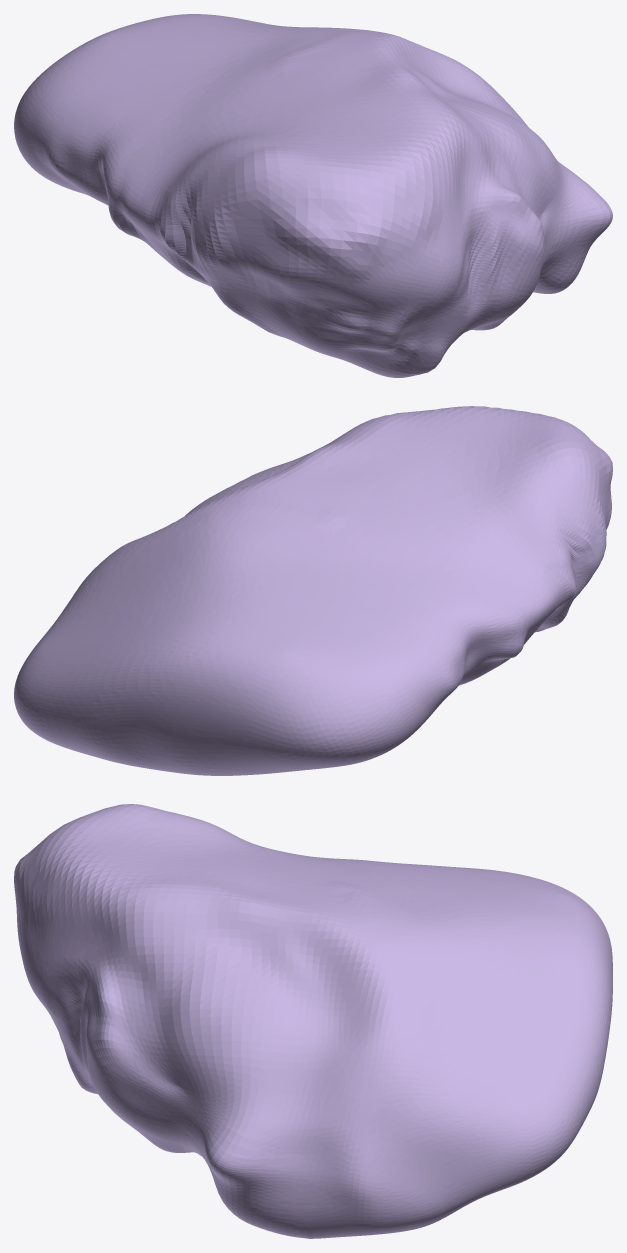
Rendered from nasa-pillars-1b.glb.
The picture shows the model from 3 angles, top to bottom: view 1: azimuth 30°, elevation 25°; view 2: azimuth 150°, elevation 25°; view 3: azimuth 270°, elevation 25°; orthographic projection. The views are drawn at different scales.
Visible parts, largest first — view 1: pillars; view 2: pillars; view 3: pillars.
Boxes of the visible parts, <box> form: pillars: <box>14,14,612,377</box>; pillars: <box>14,406,612,775</box>; pillars: <box>14,804,612,1238</box>.
Size of the model in its own units: 20.86 by 12.66 by 24.69.
